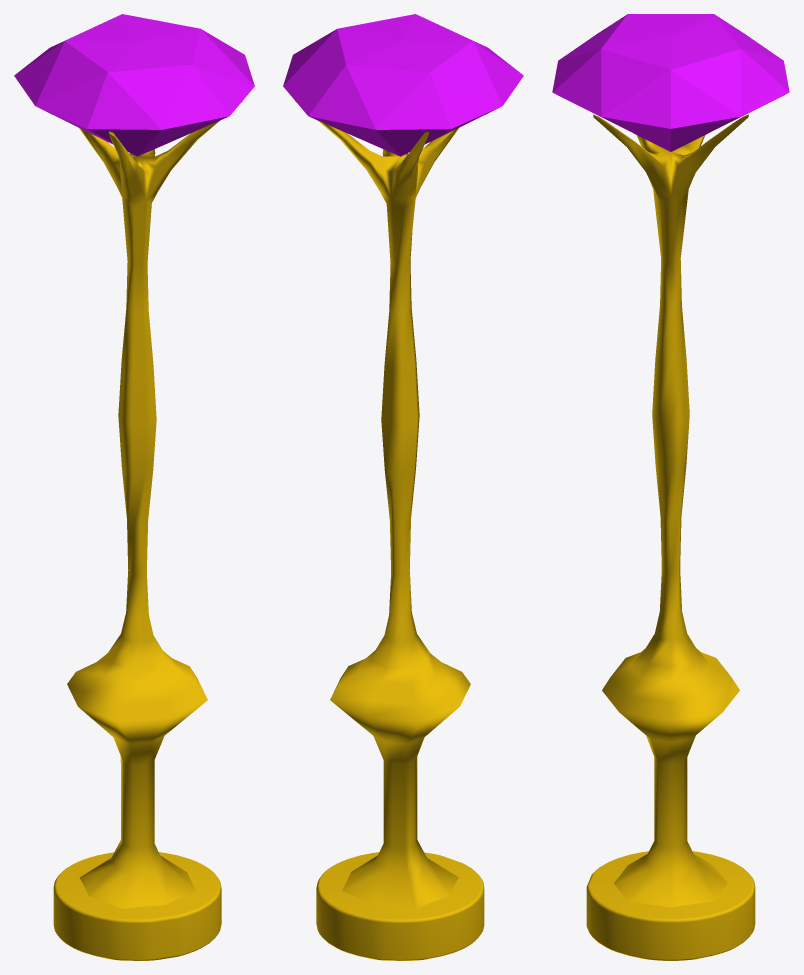
The model's file is pimp_plunger.fbx.
3 views of the same model, side by side, from view 1: azimuth 30°, elevation 25°; view 2: azimuth 150°, elevation 25°; view 3: azimuth 270°, elevation 25° (orthographic).
Visible parts, largest first — view 1: pimp_plunger; view 2: pimp_plunger; view 3: pimp_plunger.
Boxes of the visible parts, <box> form: pimp_plunger: <box>14,14,254,960</box>; pimp_plunger: <box>283,14,523,960</box>; pimp_plunger: <box>552,14,789,960</box>.
Size of the model in its own units: 0.1713 by 0.6908 by 0.1671.
